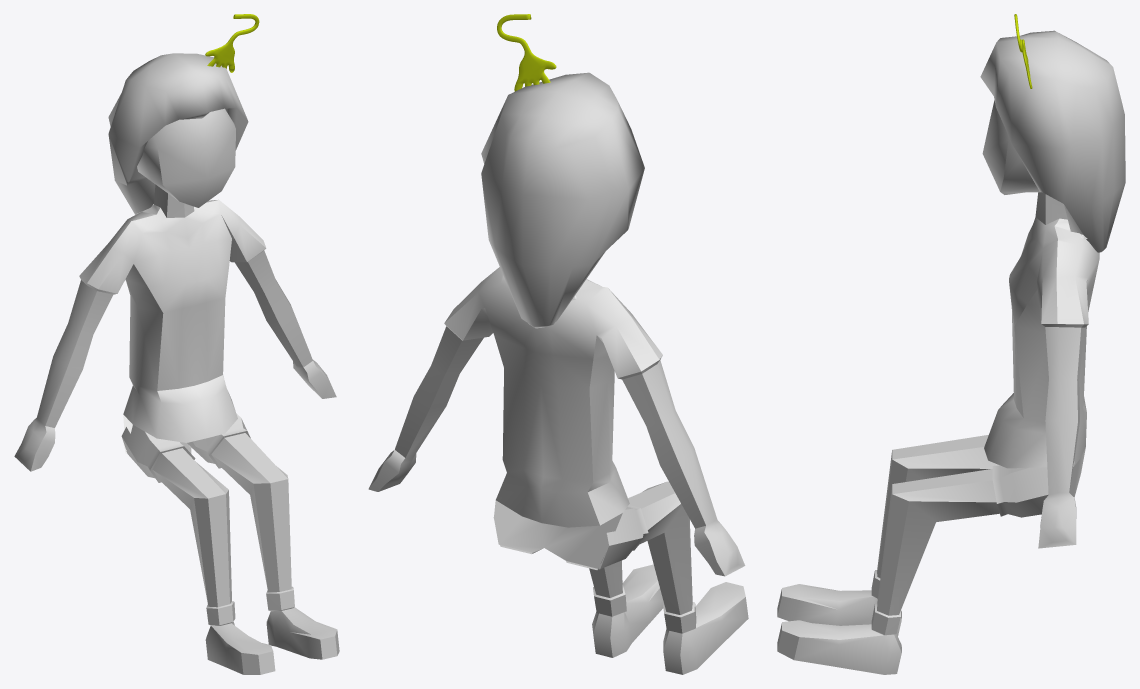
File: perso4_2.fbx
The picture shows the model from 3 angles, left to right: view 1: azimuth 30°, elevation 25°; view 2: azimuth 150°, elevation 25°; view 3: azimuth 270°, elevation 25°; orthographic projection. The views are drawn at different scales.
Visible parts, largest first — view 1: Corps, Habits, Cheveux, Acessoire; view 2: Habits, Corps, Cheveux, Acessoire; view 3: Corps, Cheveux, Habits.
Part boxes in pixels (left/top/right/bottom): Corps: left=14, top=108, right=339, bottom=674; Habits: left=79, top=199, right=266, bottom=453; Cheveux: left=108, top=53, right=248, bottom=214; Acessoire: left=205, top=14, right=259, bottom=72; Habits: left=444, top=267, right=662, bottom=569; Corps: left=368, top=326, right=748, bottom=674; Cheveux: left=481, top=72, right=644, bottom=328; Acessoire: left=497, top=14, right=556, bottom=91; Corps: left=777, top=100, right=1084, bottom=674; Cheveux: left=980, top=30, right=1125, bottom=252; Habits: left=984, top=217, right=1099, bottom=497.
Bounding box in the file's own units: 43.15 × 78.73 × 37.54.
